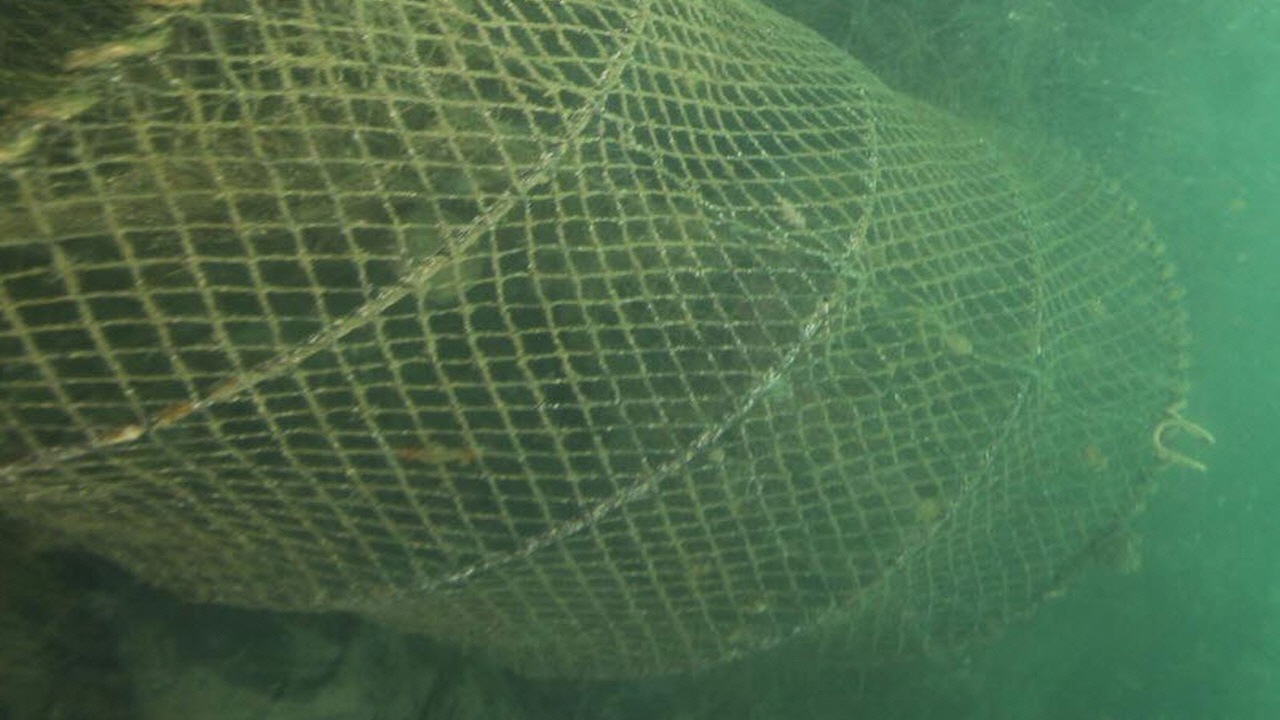spring fish trap: (0, 0, 1192, 692)
